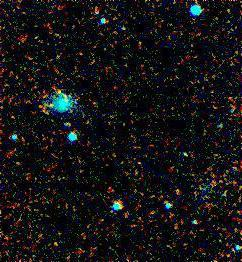star: (47, 74, 77, 104)
